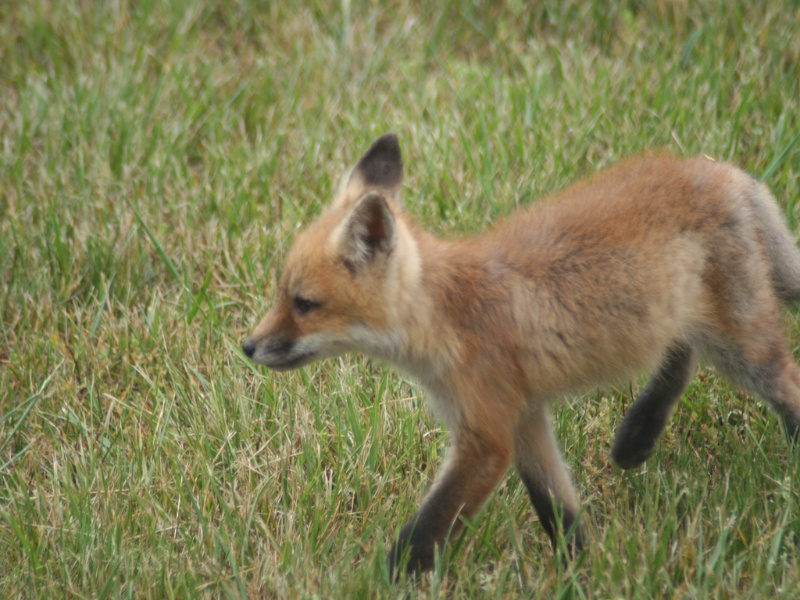fox: (238, 133, 800, 580)
